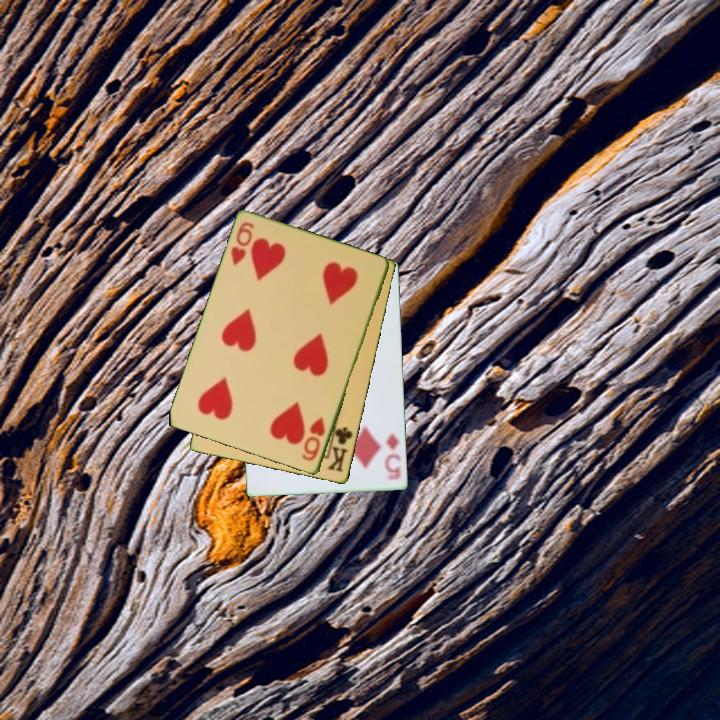5d: (382, 429, 404, 484)
6h: (298, 414, 328, 464), (227, 219, 257, 269)
Kc: (324, 419, 356, 475)
